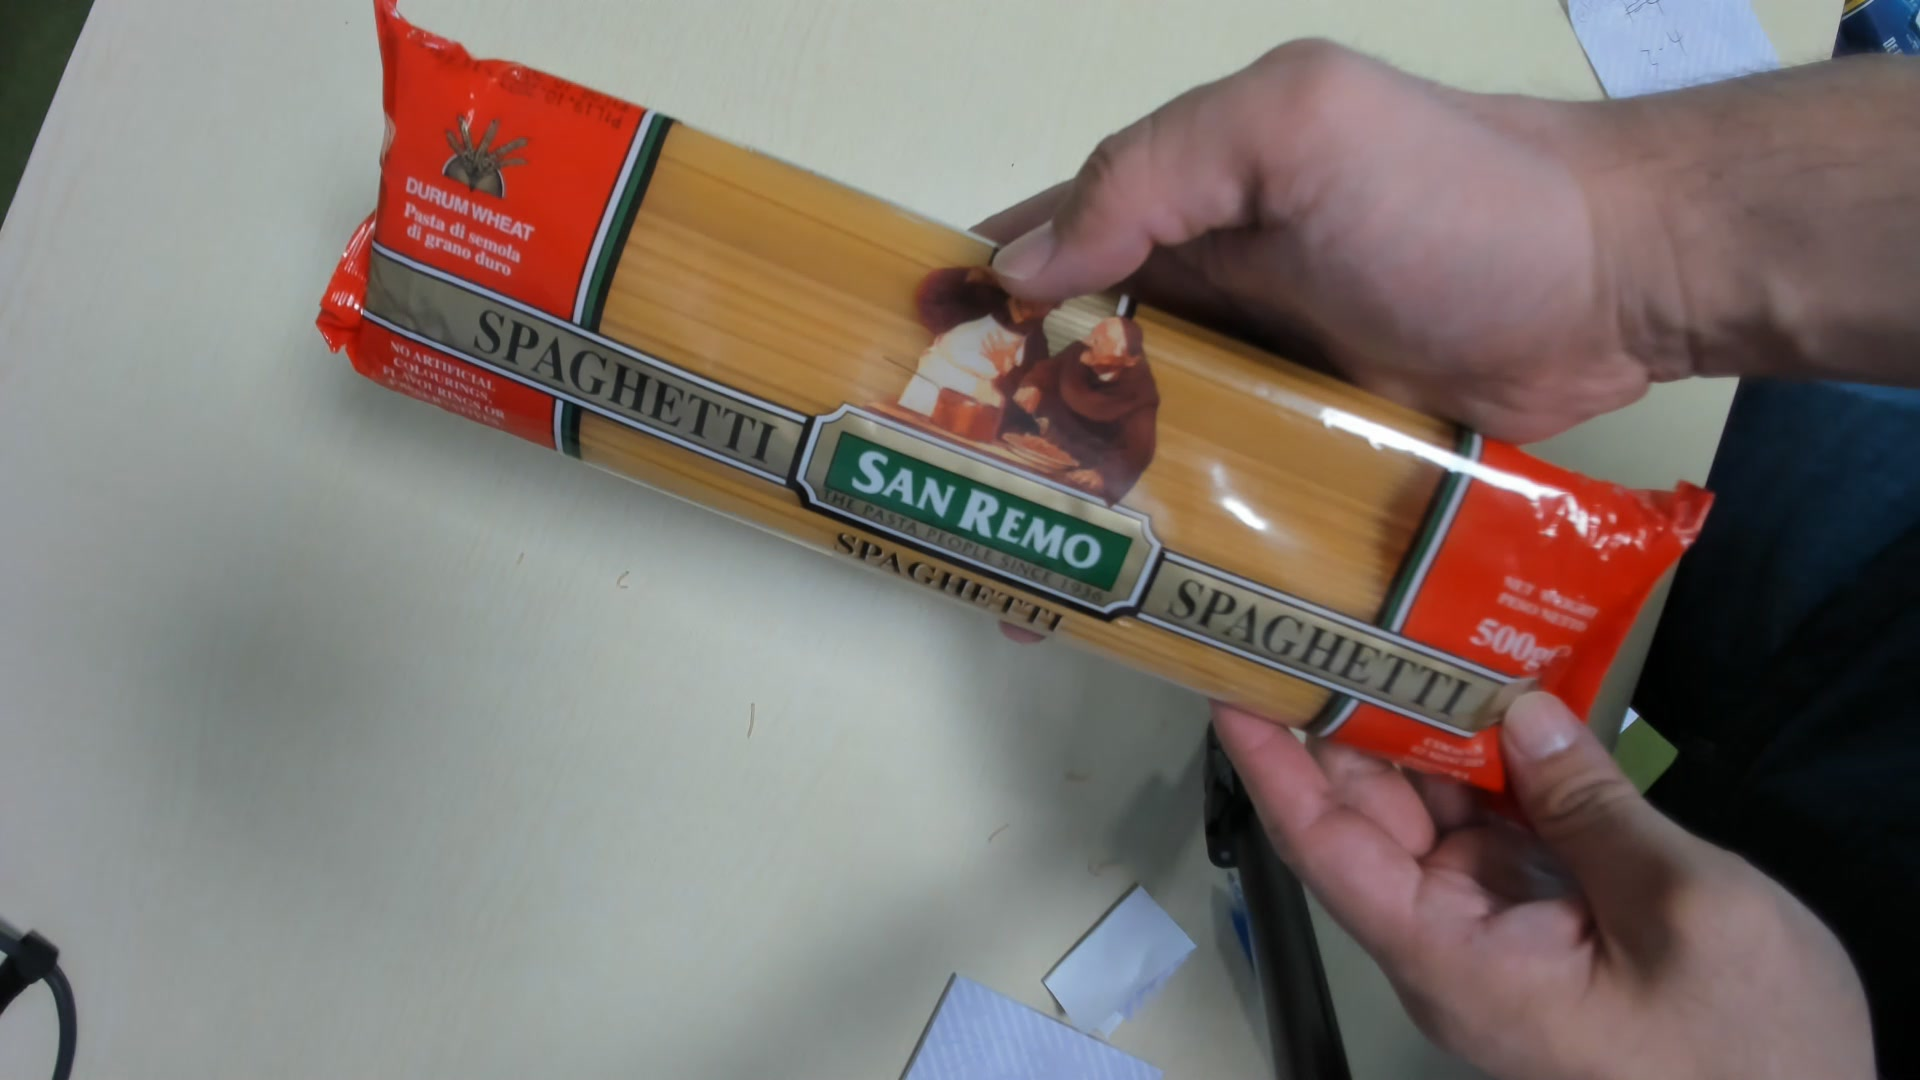Pasta_500-599g_Halal_NonHealthy: (307, 1, 1713, 829)
